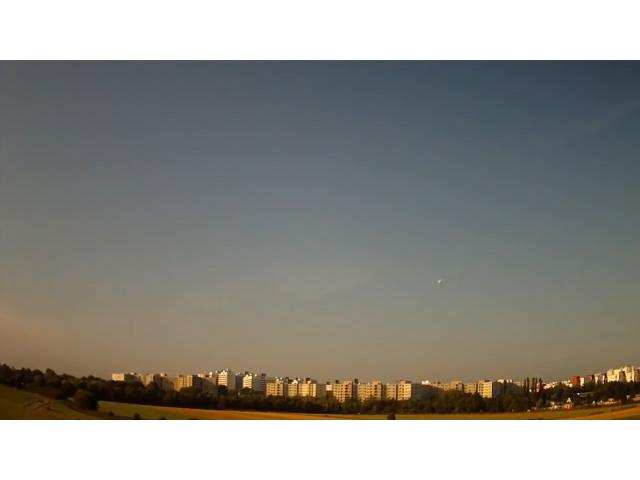Anti-Drone: (432, 274, 448, 286)
